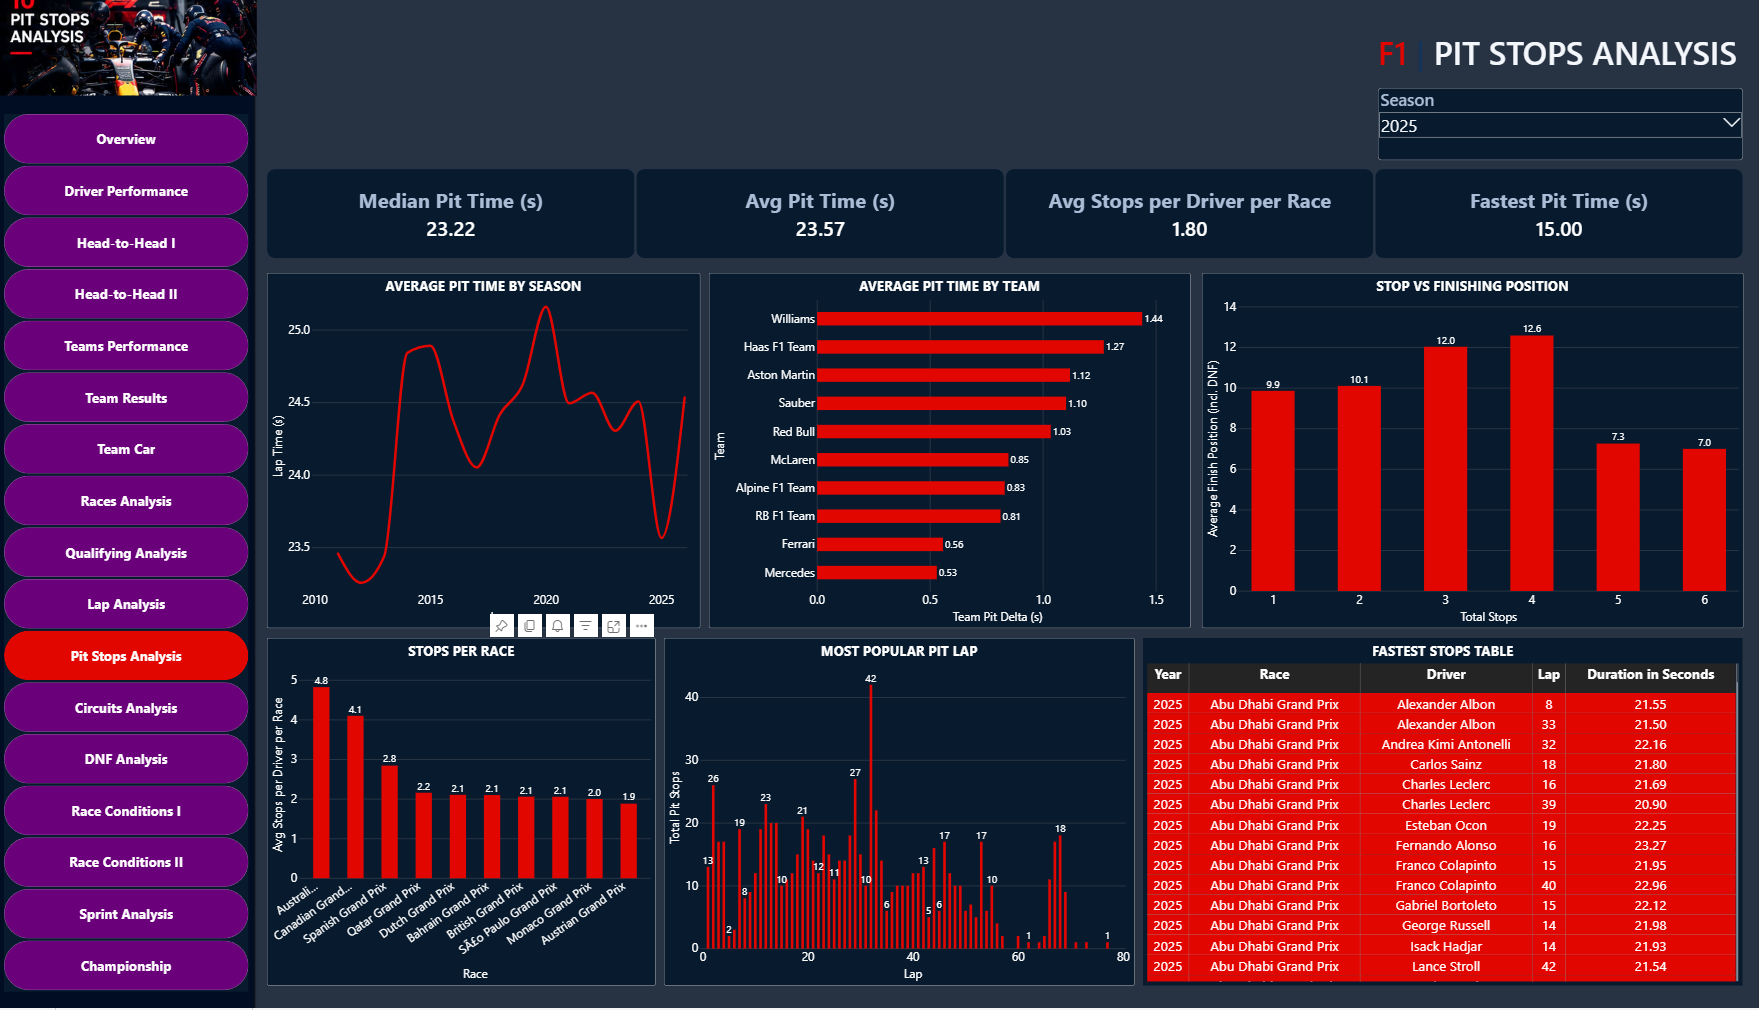

Layout of this report page (visuals, bound fields, positions):
{"tool":"powerbi","page":{"name":"Pit Stops Analysis","canvas":[7000,4000],"ordinal":12},"visuals":[{"type":"textbox","box":[5487.7,118.2,1448.3,172.4],"z":0},{"type":"cardVisual","fields":{"Data":["pit_stops.Median Pit Time (s)","pit_stops.Avg Pit Time (s)","pit_stops.Avg Stops per Driver per Race","pit_stops.Fastest Pit Time (s)"]},"box":[1078.8,670,5857.1,354.7],"z":1000},{"type":"lineChart","title":"AVERAGE PIT TIME BY SEASON","fields":{"Category":["races.year"],"Y":["pit_stops.Avg Pit Time (s)"]},"box":[1078.8,1083.7,1719.2,1408.9],"z":2000},{"type":"slicer","fields":{"Values":["races.year"]},"box":[5487.7,349.8,1448.3,285.7],"z":3000},{"type":"barChart","title":"AVERAGE PIT TIME BY TEAM","fields":{"Category":["constructors.name"],"Y":["pit_stops.Team Pit Delta (s)"]},"box":[2832.5,1083.7,1911.3,1408.9],"z":4000},{"type":"columnChart","title":"STOPS PER RACE","fields":{"Category":["races.name"],"Y":["pit_stops.Avg Stops per Driver per Race"]},"box":[1078.8,2532,1541.9,1379.3],"z":5000},{"type":"columnChart","title":"MOST POPULAR PIT LAP","fields":{"Category":["pit_stops.lap"],"Y":["pit_stops.Total Pit Stops"]},"box":[2655.2,2532,1867,1379.3],"z":6000},{"type":"tableEx","title":"FASTEST STOPS TABLE","fields":{"Values":["races.year","races.name","drivers.fullname","pit_stops.lap","pit_stops.Duration Sec"]},"box":[4556.7,2532,2379.3,1379.3],"z":7000},{"type":"columnChart","title":"STOP VS FINISHING POSITION","fields":{"Category":["results.Total Stops"],"Y":["results.Average Finish Position (incl. DNF)"]},"box":[4788.2,1083.7,2147.8,1408.9],"z":8000},{"type":"shape","box":[9.9,0,1029.6,4502.5],"z":9000},{"type":"pageNavigator","box":[34.5,453.2,970.4,3482.8],"z":10000},{"type":"image","box":[0,0,1039.4,379.3],"z":11000}]}

Visuals, with their boxes on the page's 7000x4000 design canvas (x1, y1, x2, y2). These are canvas units, not pixel positions in the 1759x1010 screenshot, which may show the page scaled, cropped or inside an application window:
textbox: Rect(5488, 118, 6936, 291)
cardVisual - pit_stops.Median Pit Time (s) x pit_stops.Avg Pit Time (s): Rect(1079, 670, 6936, 1025)
"AVERAGE PIT TIME BY SEASON" lineChart: Rect(1079, 1084, 2798, 2493)
slicer - races.year: Rect(5488, 350, 6936, 636)
"AVERAGE PIT TIME BY TEAM" barChart: Rect(2832, 1084, 4744, 2493)
"STOPS PER RACE" columnChart: Rect(1079, 2532, 2621, 3911)
"MOST POPULAR PIT LAP" columnChart: Rect(2655, 2532, 4522, 3911)
"FASTEST STOPS TABLE" tableEx: Rect(4557, 2532, 6936, 3911)
"STOP VS FINISHING POSITION" columnChart: Rect(4788, 1084, 6936, 2493)
shape: Rect(10, 0, 1040, 4502)
pageNavigator: Rect(34, 453, 1005, 3936)
image: Rect(0, 0, 1039, 379)
